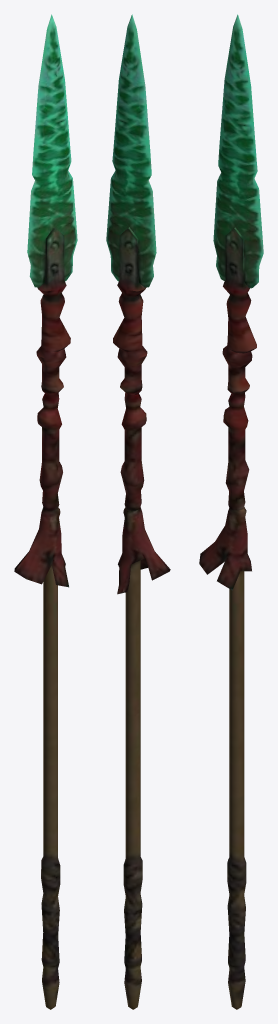
File: weapon-coral-piercer.glb
The picture shows the model from 3 angles, left to right: view 1: azimuth 30°, elevation 25°; view 2: azimuth 150°, elevation 25°; view 3: azimuth 330°, elevation 25°; orthographic projection.
Visible parts, largest first — view 1: spearG_MDL_q; view 2: spearG_MDL_q; view 3: spearG_MDL_q.
Part boxes in pixels (x1,y1,x2,y2): spearG_MDL_q: (14, 14, 77, 1009); spearG_MDL_q: (106, 14, 170, 1009); spearG_MDL_q: (199, 14, 263, 1009).
Bounding box in the file's own units: 0.202 × 3.04 × 0.1658.
Materials: 1 (1 with a texture image).
